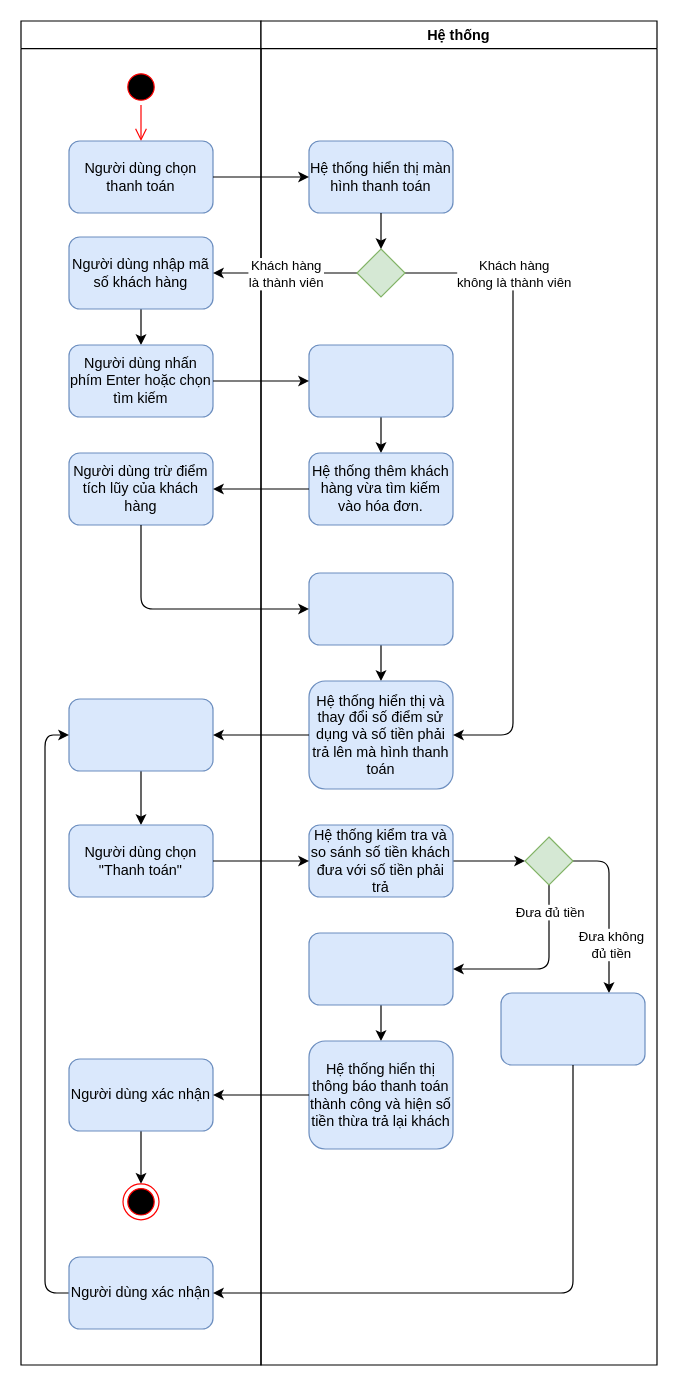
The diagram is 678 pixels wide and 1386 high, and some of its shapes have lost their labels. Here are the shapes that lost their labels. From the top down, the box of each, then its label:
(308, 344, 453, 417): Hệ thống tìm kiếm khác hàng cần tìm trong CSDL
(308, 572, 453, 645): Hệ thống kiểm tra và so sánh điểm tích lũy với điểm trừ
(20, 20, 261, 1365): Actor
(68, 698, 213, 771): Người dùng nhập số tiền khách đưa
(308, 932, 453, 1005): Hệ thống lưu hóa đơn vào CSDL
(500, 992, 645, 1065): Hệ thống thông báo khách đưa chưa đủ tiền
